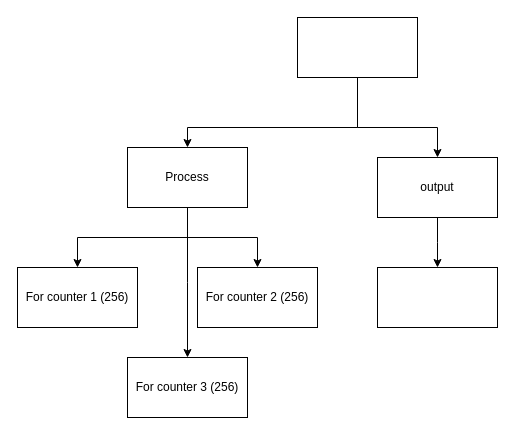
Image size: 515x435. Some labels were removed from this diagram. The centre of each missing label's shape, as x and y in pixels:
"RGB" belongs at [357,47].
"Show answer accordignly" belongs at [437,297].
